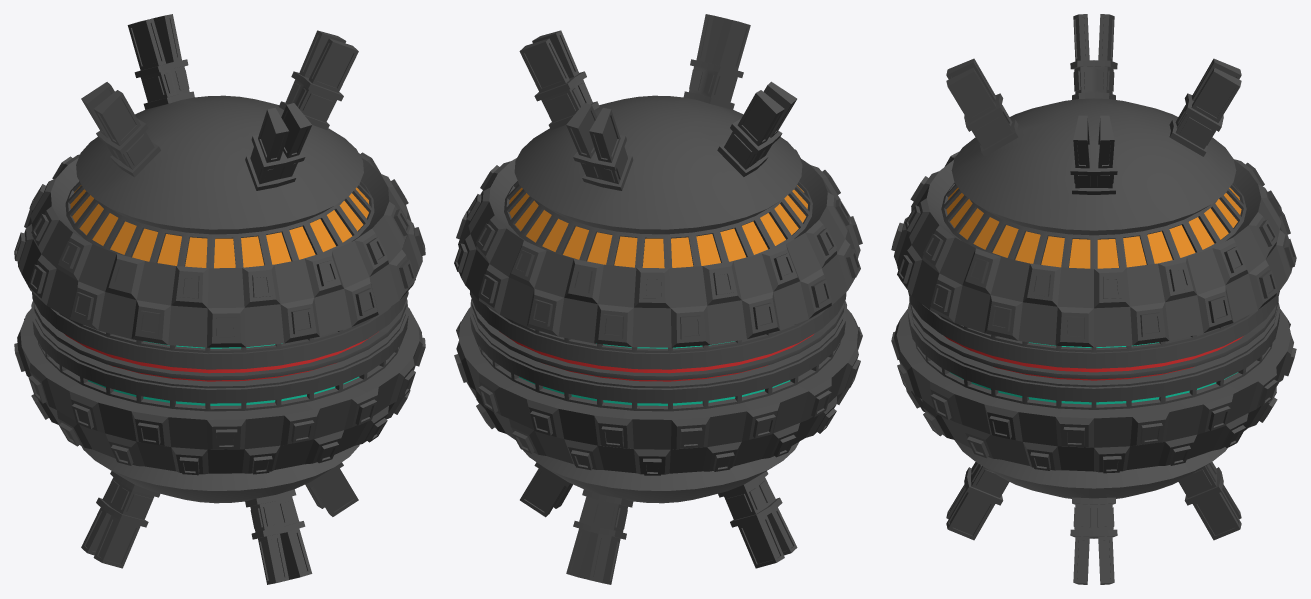
The model's file is station.fbx.
3 renders of one model, left to right at view 1: azimuth 30°, elevation 25°; view 2: azimuth 150°, elevation 25°; view 3: azimuth 270°, elevation 25°, orthographic.
Visible parts, largest first — view 1: Sphere; view 2: Sphere; view 3: Sphere.
Boxes of the visible parts, x1,y1,x2,y2 form: Sphere: (14,14,425,584); Sphere: (454,14,862,584); Sphere: (891,14,1296,584).
Bounding box in the file's own units: 6774 × 8647 × 6774.
